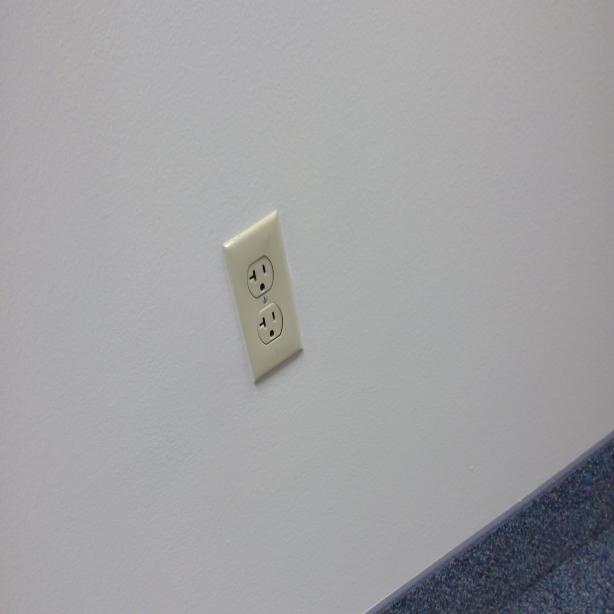typeb: (246, 252, 276, 294), (257, 307, 286, 341)
